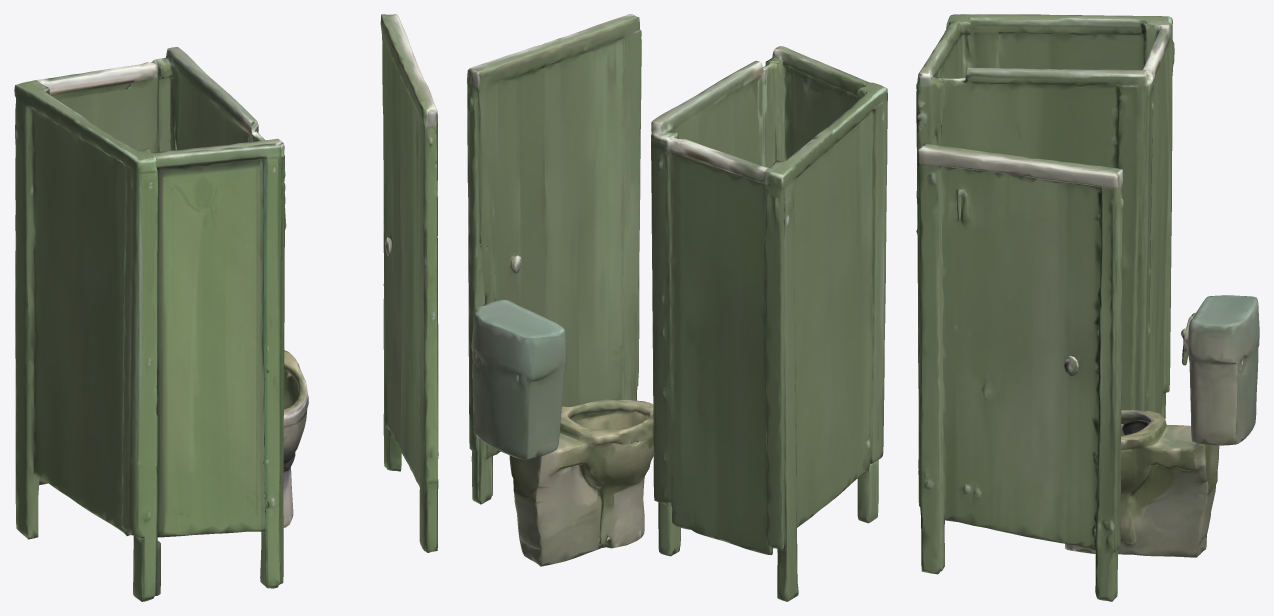
The model's file is stall.glb.
3 renders of one model, left to right at view 1: azimuth 30°, elevation 25°; view 2: azimuth 150°, elevation 25°; view 3: azimuth 270°, elevation 25°, orthographic. The views are drawn at different scales.
Visible parts, largest first — view 1: piece; view 2: piece; view 3: piece.
Boxes of the visible parts, left/top/right/bottom form: piece: left=14, top=14, right=438, bottom=601; piece: left=467, top=14, right=887, bottom=601; piece: left=916, top=14, right=1259, bottom=601.
Size of the model in its own units: 1.6 by 2 by 1.4.
Materials: 1 (1 with a texture image).
